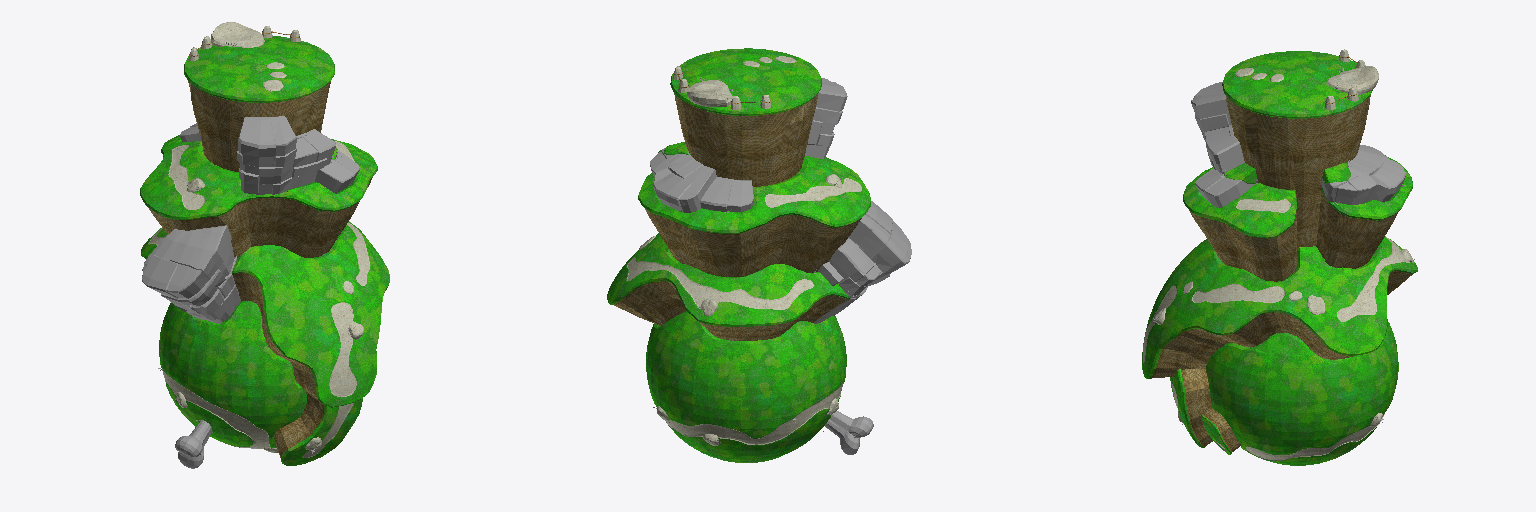
3 views of the same model, side by side, from view 1: azimuth 30°, elevation 25°; view 2: azimuth 150°, elevation 25°; view 3: azimuth 270°, elevation 25° (orthographic).
Visible parts, largest first — view 1: YoshiClimbMountainPlanet.002_meshId2_name, YoshiClimbMountainPlanet.004_meshId4_name, YoshiClimbMountainPlanet.005_meshId5_name, YoshiClimbMountainPlanet.008_meshId8_name, YoshiClimbMountainPlanet.003_meshId3_name, YoshiClimbMountainPlanet.006_meshId6_name, YoshiClimbMountainPlanet.001_meshId1_name, YoshiClimbMountainPlanet.007_meshId7_name, YoshiClimbMountainPlanet_meshId0_name; view 2: YoshiClimbMountainPlanet.002_meshId2_name, YoshiClimbMountainPlanet.005_meshId5_name, YoshiClimbMountainPlanet.004_meshId4_name, YoshiClimbMountainPlanet.006_meshId6_name, YoshiClimbMountainPlanet.003_meshId3_name, YoshiClimbMountainPlanet.008_meshId8_name, YoshiClimbMountainPlanet.007_meshId7_name, YoshiClimbMountainPlanet.001_meshId1_name, YoshiClimbMountainPlanet_meshId0_name; view 3: YoshiClimbMountainPlanet.002_meshId2_name, YoshiClimbMountainPlanet.005_meshId5_name, YoshiClimbMountainPlanet.006_meshId6_name, YoshiClimbMountainPlanet.007_meshId7_name, YoshiClimbMountainPlanet.003_meshId3_name, YoshiClimbMountainPlanet.004_meshId4_name, YoshiClimbMountainPlanet.008_meshId8_name, YoshiClimbMountainPlanet.001_meshId1_name.
Boxes of the visible parts, x1,y1,x2,y2 form: YoshiClimbMountainPlanet.002_meshId2_name: [140, 36, 389, 465]; YoshiClimbMountainPlanet.004_meshId4_name: [142, 117, 360, 321]; YoshiClimbMountainPlanet.005_meshId5_name: [148, 81, 372, 398]; YoshiClimbMountainPlanet.008_meshId8_name: [142, 116, 354, 323]; YoshiClimbMountainPlanet.003_meshId3_name: [148, 141, 369, 457]; YoshiClimbMountainPlanet.006_meshId6_name: [162, 113, 350, 457]; YoshiClimbMountainPlanet.001_meshId1_name: [176, 22, 363, 452]; YoshiClimbMountainPlanet.007_meshId7_name: [201, 139, 336, 450]; YoshiClimbMountainPlanet_meshId0_name: [175, 420, 211, 468]; YoshiClimbMountainPlanet.002_meshId2_name: [607, 48, 870, 462]; YoshiClimbMountainPlanet.005_meshId5_name: [613, 94, 861, 332]; YoshiClimbMountainPlanet.004_meshId4_name: [650, 81, 911, 316]; YoshiClimbMountainPlanet.006_meshId6_name: [633, 128, 850, 335]; YoshiClimbMountainPlanet.003_meshId3_name: [627, 178, 861, 444]; YoshiClimbMountainPlanet.008_meshId8_name: [652, 78, 910, 323]; YoshiClimbMountainPlanet.007_meshId7_name: [644, 154, 830, 340]; YoshiClimbMountainPlanet.001_meshId1_name: [639, 56, 841, 445]; YoshiClimbMountainPlanet_meshId0_name: [825, 411, 873, 454]; YoshiClimbMountainPlanet.002_meshId2_name: [1142, 51, 1417, 465]; YoshiClimbMountainPlanet.005_meshId5_name: [1151, 95, 1413, 378]; YoshiClimbMountainPlanet.006_meshId6_name: [1180, 129, 1394, 446]; YoshiClimbMountainPlanet.007_meshId7_name: [1192, 169, 1375, 451]; YoshiClimbMountainPlanet.003_meshId3_name: [1142, 199, 1409, 460]; YoshiClimbMountainPlanet.004_meshId4_name: [1193, 82, 1406, 207]; YoshiClimbMountainPlanet.008_meshId8_name: [1191, 92, 1404, 204]; YoshiClimbMountainPlanet.001_meshId1_name: [1155, 49, 1413, 426].
Bounding box in the file's own units: 2884 × 4245 × 2741.
Materials: 11 (4 with a texture image).